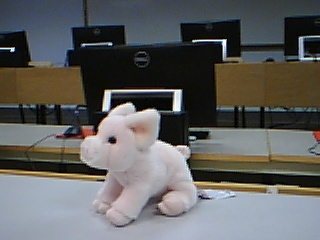piggy: (79, 100, 200, 228)
